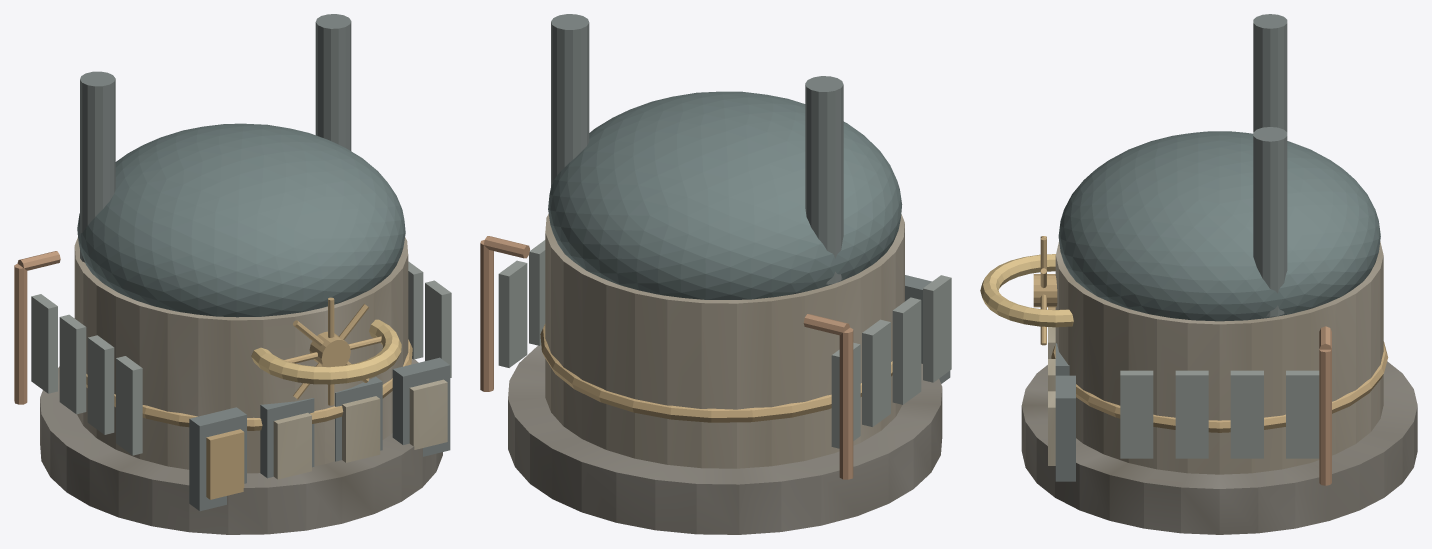
File: model-core.glb
3 renders of one model, left to right at view 1: azimuth 30°, elevation 25°; view 2: azimuth 150°, elevation 25°; view 3: azimuth 270°, elevation 25°, orthographic. The views are drawn at different scales.
Parts seen in each view (by area): view 1: core_dome, core_hall, core_base, stack_-1, stack_1, decision_ring, gate_frame_0, gate_frame_3, fin_-1_-0.3, fin_-1_0.3, gate_panel_0, fin_-1_-0.9 (+12 smaller); view 2: core_dome, core_hall, core_base, stack_-1, stack_1, core_ring_a, fin_-1_0.3, fin_1_-0.9, fin_-1_0.9, fin_-1_-0.3, pipe_vert_-1, pipe_vert_1 (+5 smaller); view 3: core_dome, core_hall, core_base, stack_1, stack_-1, fin_1_-0.9, fin_1_-0.3, fin_1_0.3, fin_1_0.9, decision_ring, core_ring_a, gate_frame_3 (+3 smaller).
Boxes of the visible parts, x1,y1,x2,y2 form: core_dome: (77,123,405,317); core_hall: (74,237,408,473); core_base: (40,359,442,534); stack_-1: (80,71,115,262); stack_1: (315,14,351,150); decision_ring: (251,319,401,384); gate_frame_0: (189,407,246,511); gate_frame_3: (392,357,450,456); fin_-1_-0.3: (59,314,86,414); fin_-1_0.3: (87,335,114,434); gate_panel_0: (206,429,244,499); fin_-1_-0.9: (31,294,57,393); core_dome: (548,91,902,299); core_hall: (545,214,904,468); core_base: (508,345,942,534); stack_-1: (805,76,843,284); stack_1: (551,14,589,185); core_ring_a: (540,324,892,422); fin_-1_0.3: (892,297,921,404); fin_1_-0.9: (498,260,527,367); fin_-1_0.9: (923,275,951,382); fin_-1_-0.3: (862,319,890,426); pipe_vert_-1: (839,327,853,479); pipe_vert_1: (480,240,493,391); core_dome: (1058,131,1380,321); core_hall: (1055,241,1383,474); core_base: (1021,361,1417,534); stack_1: (1253,127,1287,316); stack_-1: (1253,14,1287,131); fin_1_-0.9: (1286,370,1319,458); fin_1_-0.3: (1230,370,1263,458); fin_1_0.3: (1175,370,1208,458); fin_1_0.9: (1120,370,1153,458); decision_ring: (980,254,1073,327); core_ring_a: (1051,341,1388,432); gate_frame_3: (1055,375,1075,481).
Size of the model in its own units: 4.3 by 4.47 by 4.75.
